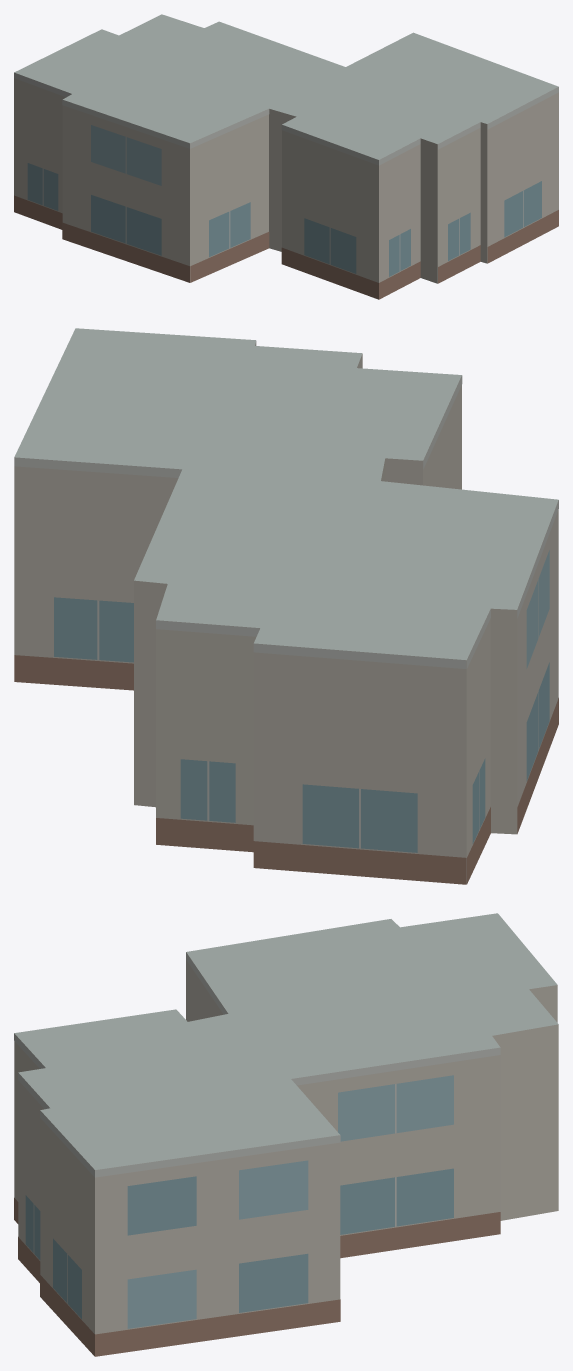
The model's file is survey-upis-32612135.glb.
3 renders of one model, top to bottom at view 1: azimuth 30°, elevation 25°; view 2: azimuth 150°, elevation 25°; view 3: azimuth 270°, elevation 25°, orthographic. The views are drawn at different scales.
Parts seen in each view (by area): view 1: survey-upis-32612135.tmp; view 2: survey-upis-32612135.tmp; view 3: survey-upis-32612135.tmp.
Boxes of the visible parts, left/top/right/bottom form: survey-upis-32612135.tmp: left=14, top=14, right=558, bottom=299; survey-upis-32612135.tmp: left=14, top=328, right=558, bottom=884; survey-upis-32612135.tmp: left=14, top=913, right=558, bottom=1356.
Bounding box in the file's own units: 18.03 × 6.1 × 16.15.
